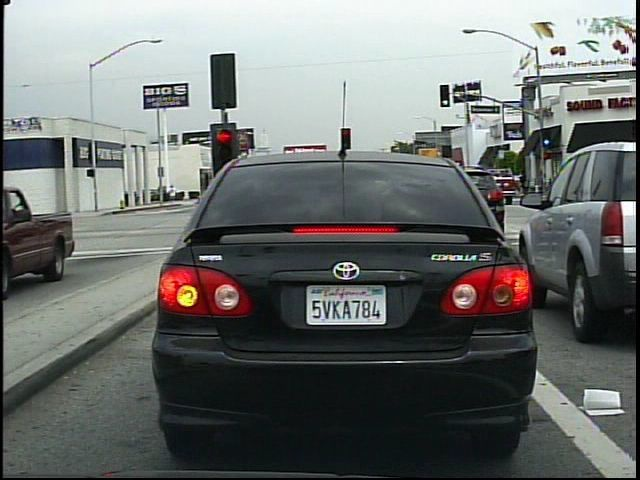person: (517, 167, 530, 195), (167, 180, 179, 207)
